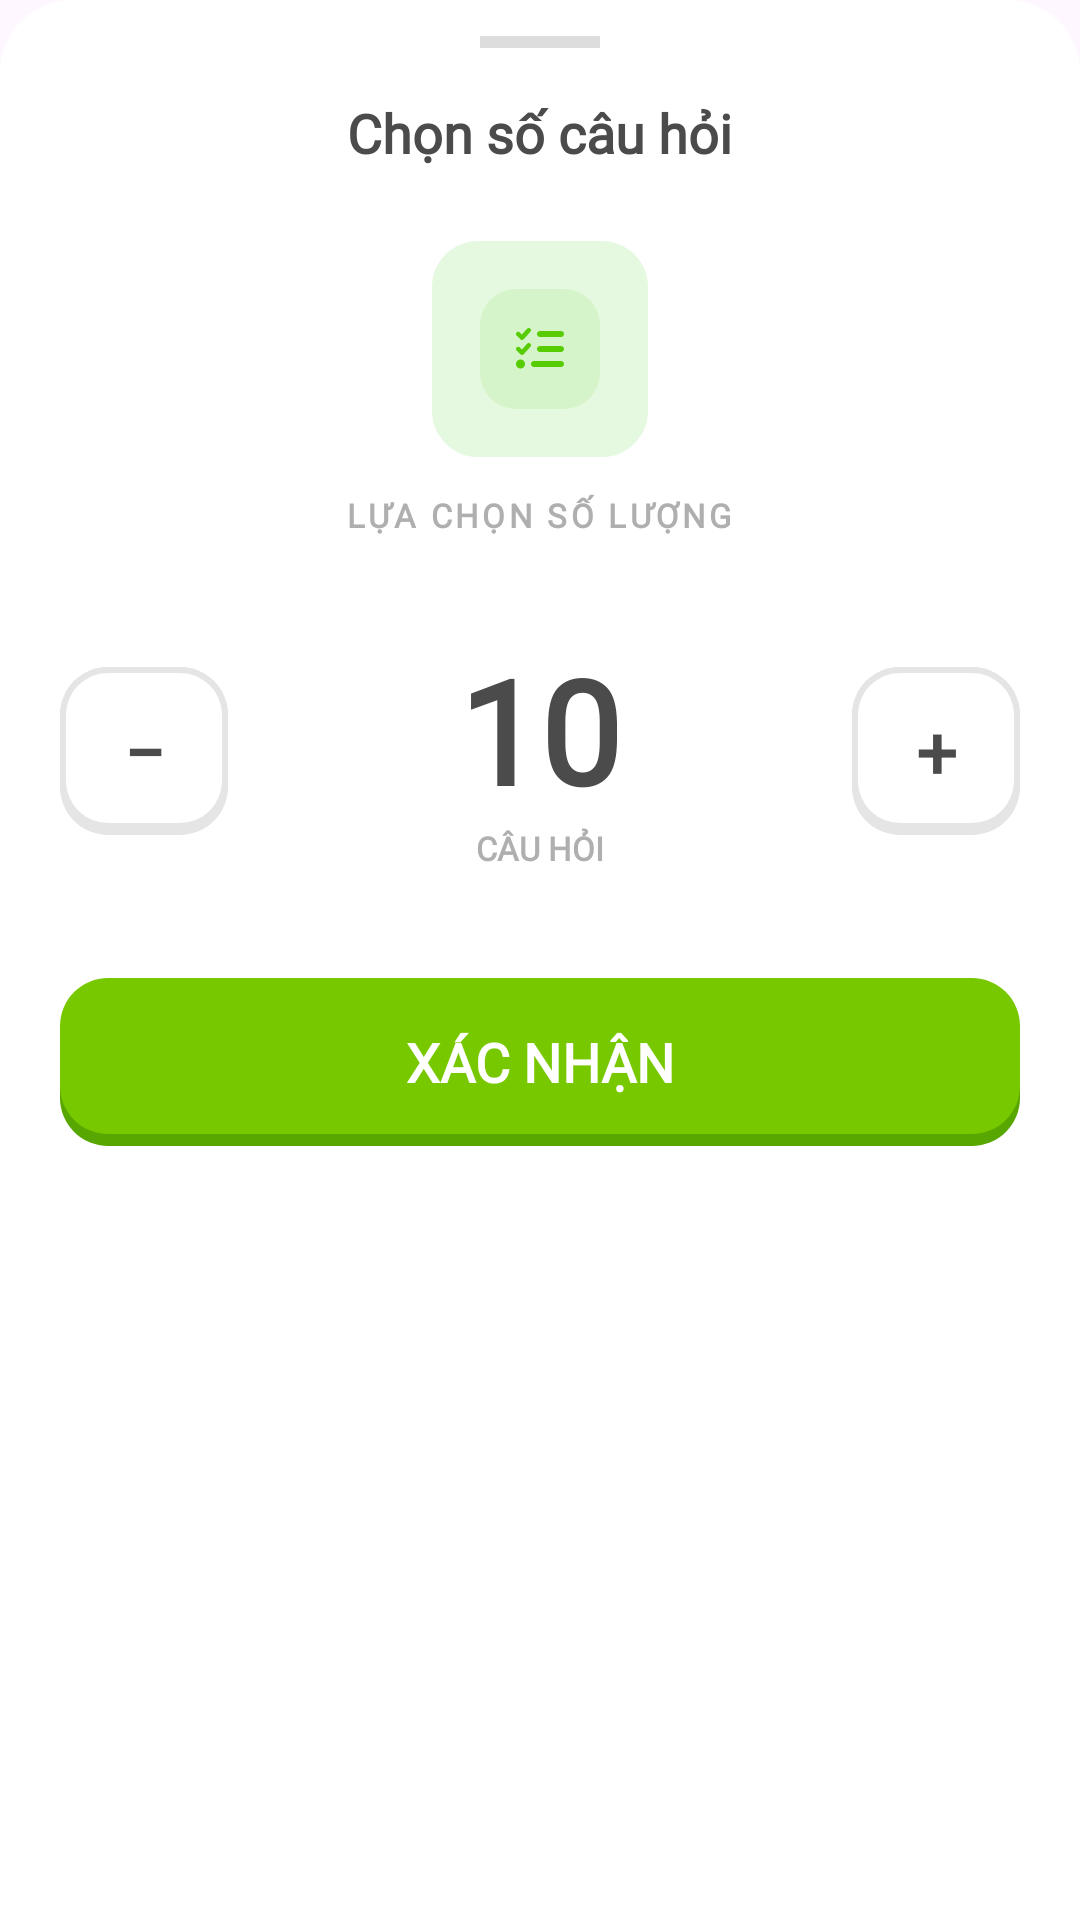

Where to tap for icons on this 1080px×1920px app screen, as [x,y]:
list check: [540,349]
